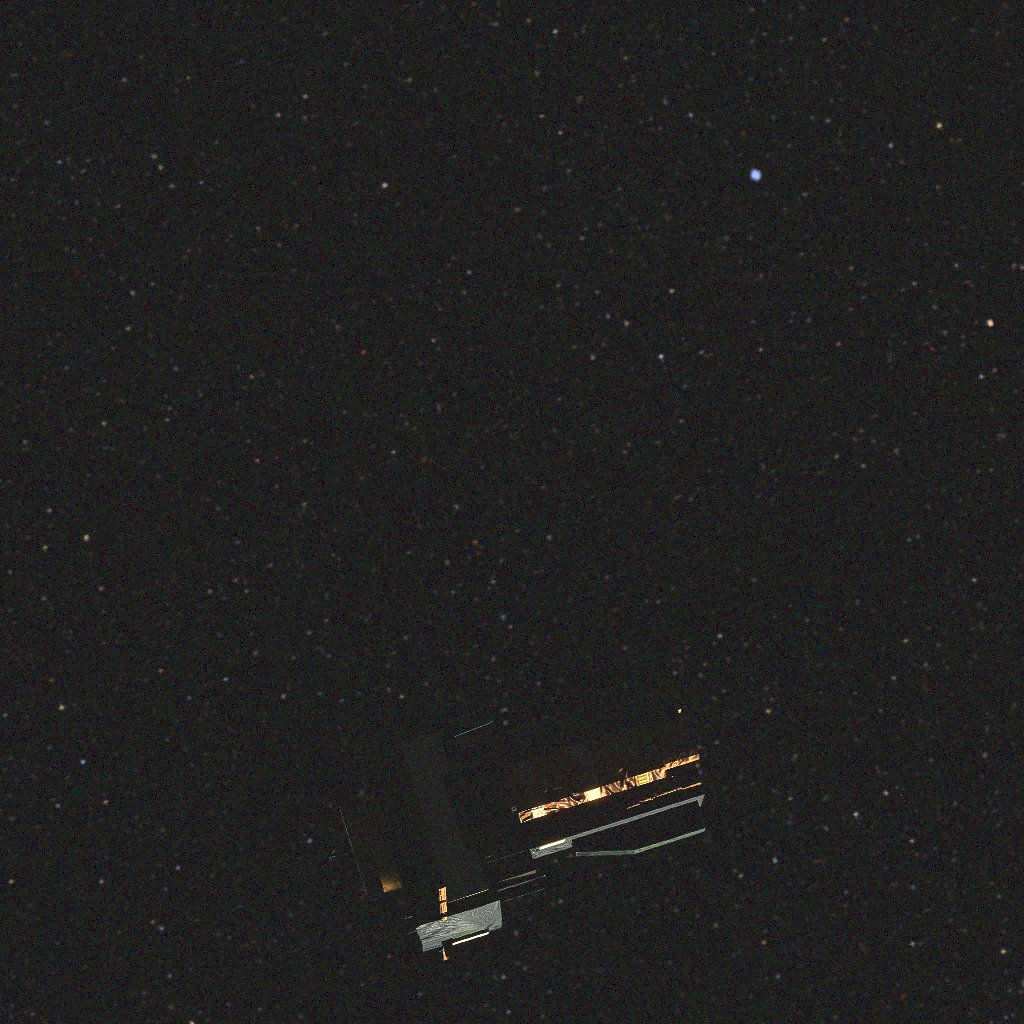soho: (310, 675, 705, 974)
